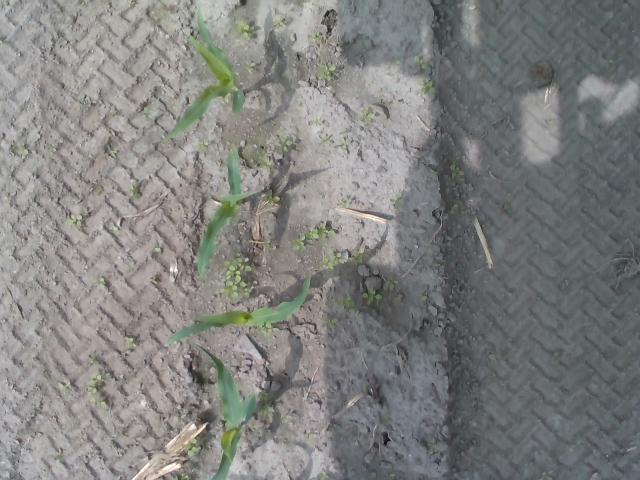Maize: (164, 3, 246, 142), (165, 278, 312, 347), (188, 342, 258, 470), (196, 150, 255, 284)
Weeds: (222, 256, 258, 300), (86, 374, 111, 410), (256, 386, 275, 418), (308, 220, 336, 241), (319, 134, 349, 151), (320, 250, 342, 270), (235, 18, 252, 39), (361, 288, 381, 304), (319, 64, 337, 80), (274, 136, 292, 151), (350, 248, 366, 264), (336, 296, 354, 310), (292, 232, 306, 250), (264, 194, 282, 208), (182, 441, 203, 453), (417, 78, 433, 92), (319, 316, 339, 327), (385, 275, 399, 290), (130, 187, 143, 202), (243, 61, 256, 75), (360, 107, 374, 120), (415, 56, 428, 69), (451, 167, 465, 179), (70, 214, 83, 226), (260, 322, 273, 334), (16, 144, 28, 156), (304, 431, 316, 442), (125, 336, 137, 347), (196, 142, 207, 152), (339, 198, 350, 208), (312, 31, 322, 41), (318, 471, 328, 480), (97, 276, 106, 286), (126, 0, 136, 8), (180, 473, 188, 480)
